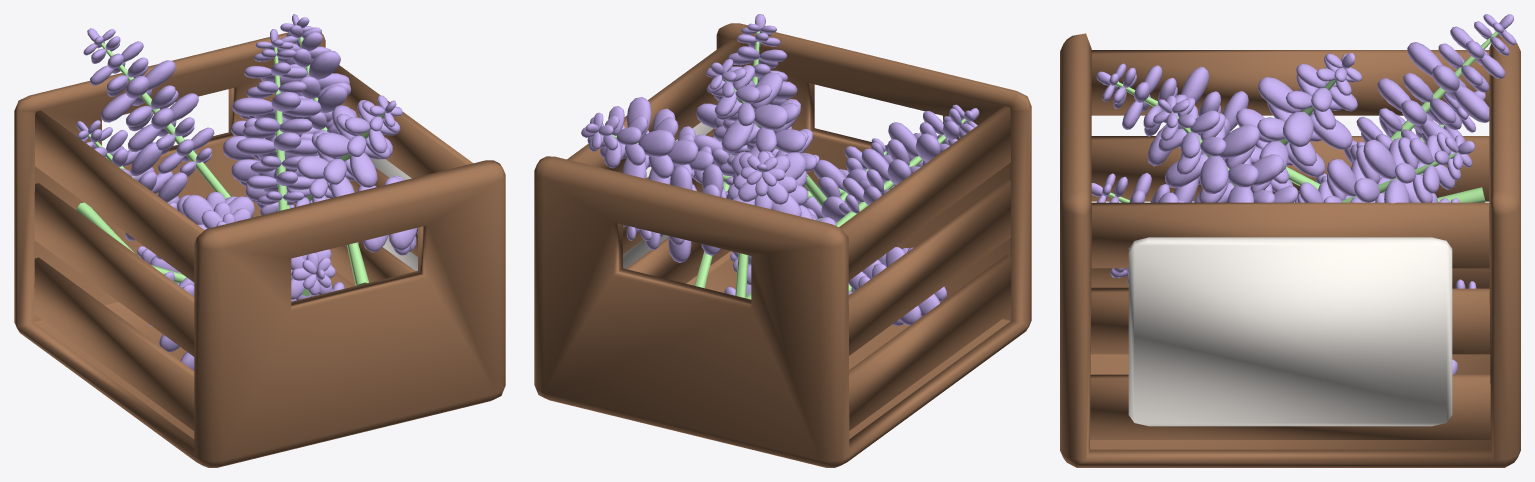
The model's file is CajaLavanda.fbx.
3 views of the same model, side by side, from view 1: azimuth 30°, elevation 25°; view 2: azimuth 150°, elevation 25°; view 3: azimuth 270°, elevation 25° (orthographic). The views are drawn at different scales.
Parts seen in each view (by area): view 1: Cube.325; view 2: Cube.325; view 3: Cube.325.
Part boxes in pixels (bbox=[...]): Cube.325: bbox=[14, 14, 505, 467]; Cube.325: bbox=[534, 14, 1031, 467]; Cube.325: bbox=[1060, 14, 1520, 467].
Size of the model in its own units: 161 by 154 by 180.
